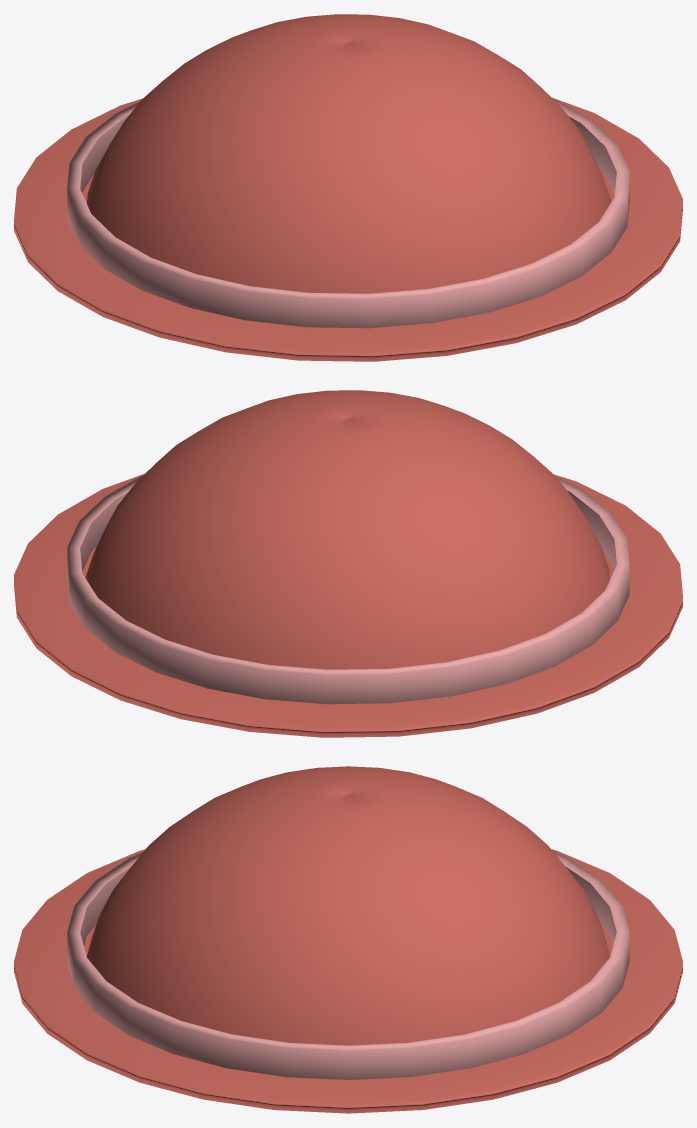
The model's file is alpinist_hat.glb.
3 views of the same model, one above another, from view 1: azimuth 30°, elevation 25°; view 2: azimuth 150°, elevation 25°; view 3: azimuth 270°, elevation 25° (orthographic).
Parts seen in each view (by area): view 1: alpinist_hat_Head; view 2: alpinist_hat_Head; view 3: alpinist_hat_Head.
Boxes of the visible parts, x1,y1,x2,y2 form: alpinist_hat_Head: (14,14,682,361); alpinist_hat_Head: (14,390,682,737); alpinist_hat_Head: (14,766,682,1113).
Size of the model in its own units: 0.88 by 0.258 by 0.88.
